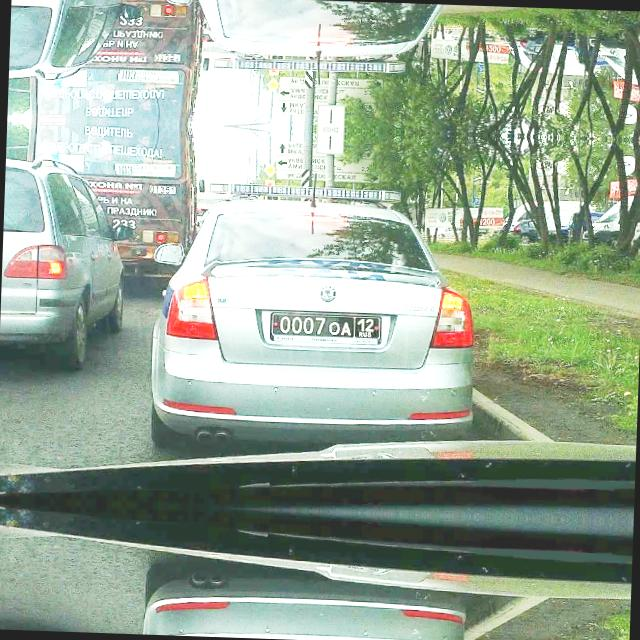military: (266, 306, 382, 346)
